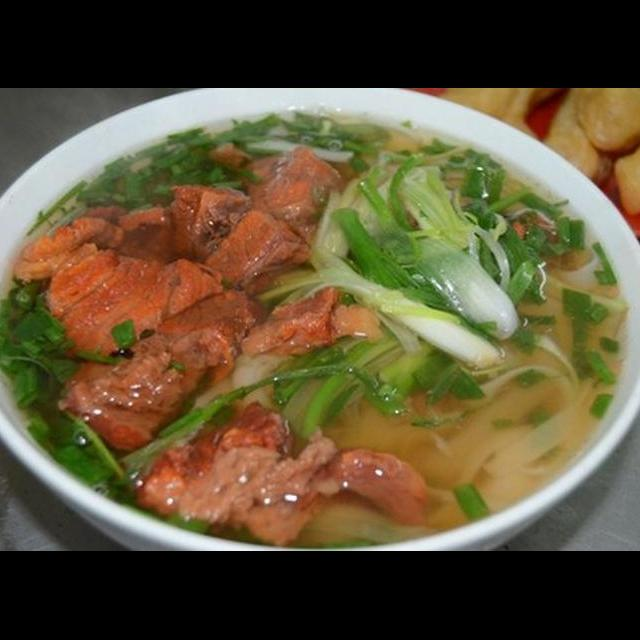banh pho: (419, 324, 614, 532)
pho bo: (0, 127, 640, 551)
thit bo: (123, 396, 435, 552), (49, 278, 265, 460), (10, 212, 228, 366), (153, 178, 322, 304), (203, 136, 350, 236), (239, 278, 391, 358)
